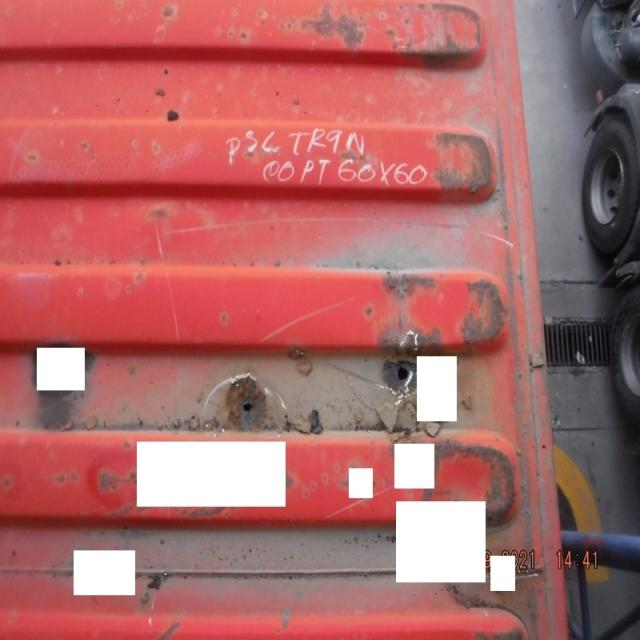hole: (226, 374, 270, 433), (380, 357, 425, 394)
